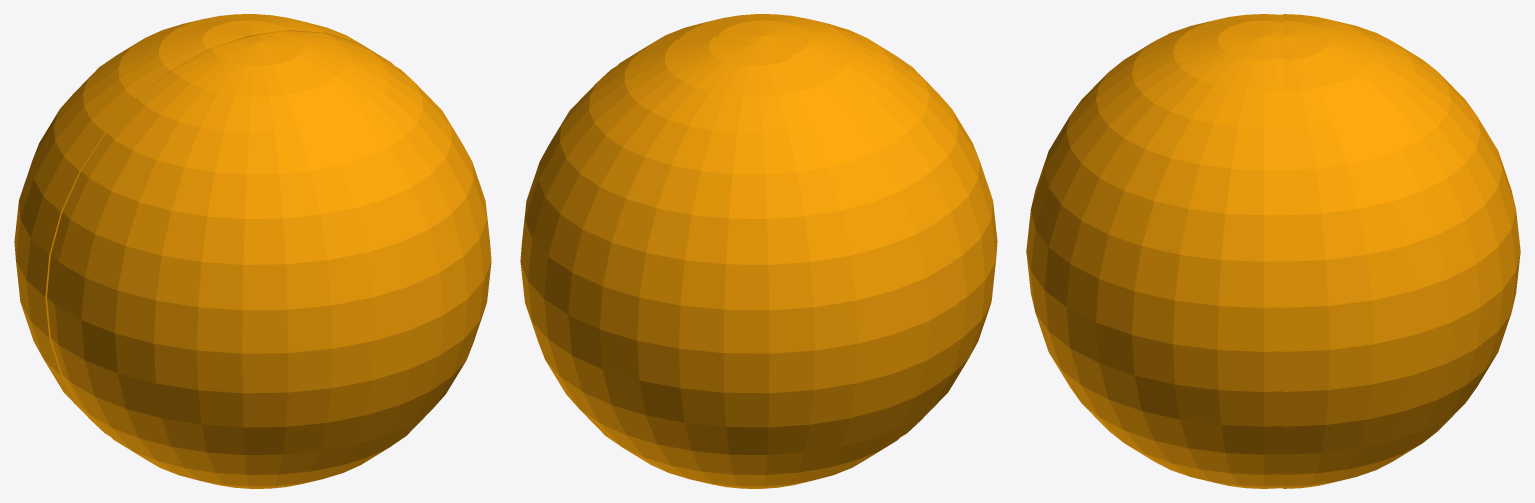
File: Orange.fbx
The picture shows the model from 3 angles, left to right: view 1: azimuth 30°, elevation 25°; view 2: azimuth 150°, elevation 25°; view 3: azimuth 270°, elevation 25°; orthographic projection.
Visible parts, largest first — view 1: OrangeSliced, OrangeSliced.001, Sphere.001; view 2: OrangeSliced.001, OrangeSliced, Sphere.001; view 3: OrangeSliced, OrangeSliced.001, Sphere.001.
Boxes of the visible parts, box(x1,y1,x2,y2) form: OrangeSliced: box(54, 37, 491, 488); OrangeSliced.001: box(14, 14, 393, 436); Sphere.001: box(47, 31, 369, 439); OrangeSliced.001: box(520, 37, 957, 488); OrangeSliced: box(651, 14, 997, 430); Sphere.001: box(617, 30, 966, 436); OrangeSliced: box(1026, 14, 1263, 488); OrangeSliced.001: box(1283, 14, 1520, 488); Sphere.001: box(1264, 14, 1282, 488).
Bounding box in the file's own units: 200 × 200 × 208.
